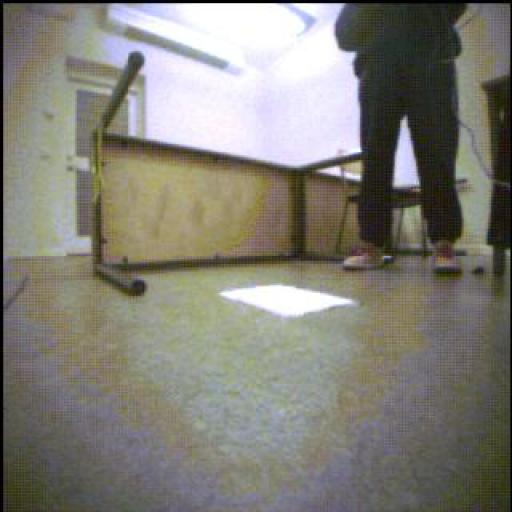Pad: (222, 286, 358, 318)
